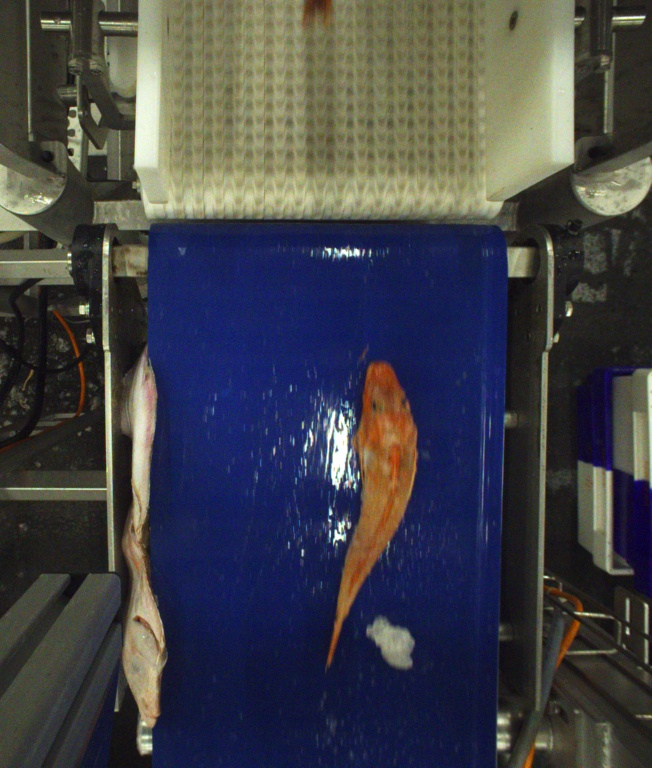GUU: (322, 365, 415, 678)
